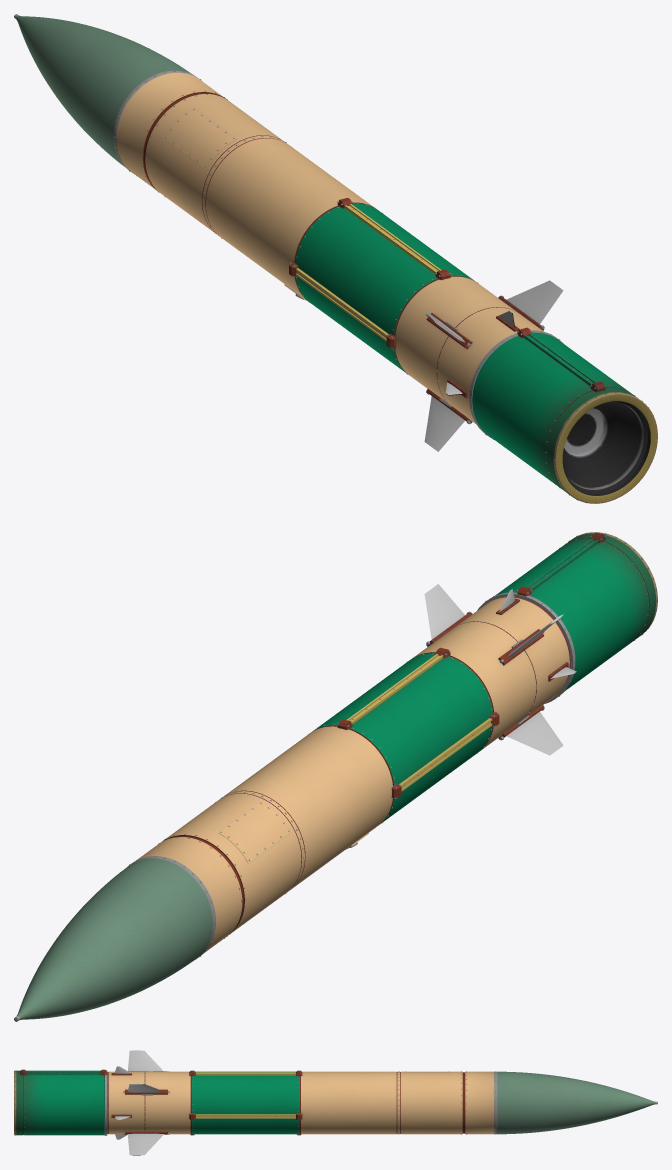
Rendered from msl_9m83.glb.
3 renders of one model, top to bottom at view 1: azimuth 30°, elevation 25°; view 2: azimuth 150°, elevation 25°; view 3: azimuth 270°, elevation 25°, orthographic. The views are drawn at different scales.
Parts seen in each view (by area): view 1: body|M83_atlas, fin2|M83_atlas, fin0|M83_atlas; view 2: body|M83_atlas, fin2|M83_atlas, fin0|M83_atlas; view 3: body|M83_atlas, fin1|M83_atlas, fin3|M83_atlas, fin0|M83_atlas.
Boxes of the visible parts, <box> form: body|M83_atlas: <box>14,14,657,503</box>; fin2|M83_atlas: <box>424,396,465,451</box>; fin0|M83_atlas: <box>506,280,563,323</box>; body|M83_atlas: <box>14,532,657,1021</box>; fin2|M83_atlas: <box>506,711,563,755</box>; fin0|M83_atlas: <box>424,584,464,639</box>; body|M83_atlas: <box>14,1066,657,1139</box>; fin1|M83_atlas: <box>127,1133,163,1155</box>; fin3|M83_atlas: <box>128,1050,163,1071</box>; fin0|M83_atlas: <box>128,1083,163,1092</box>.
Bounding box in the file's own units: 0.8619 × 0.8619 × 6.9.
Materials: 5 (5 with a texture image).
